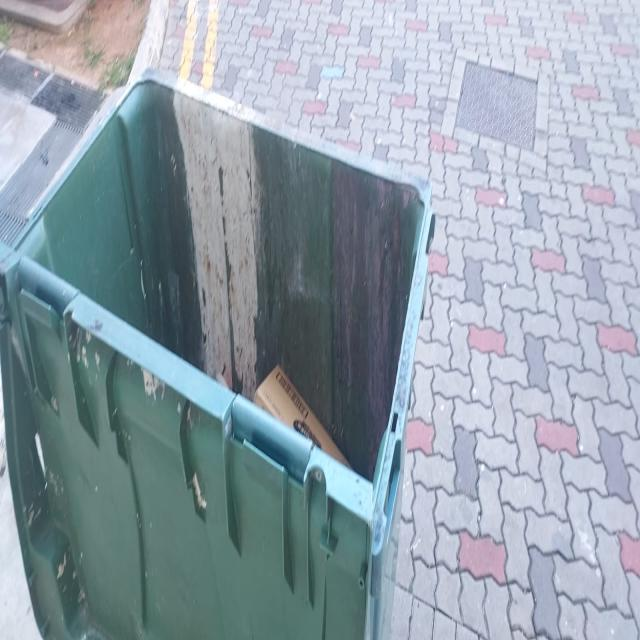bin_empty: (4, 73, 418, 639)
bulk_waste: (253, 362, 355, 476)
